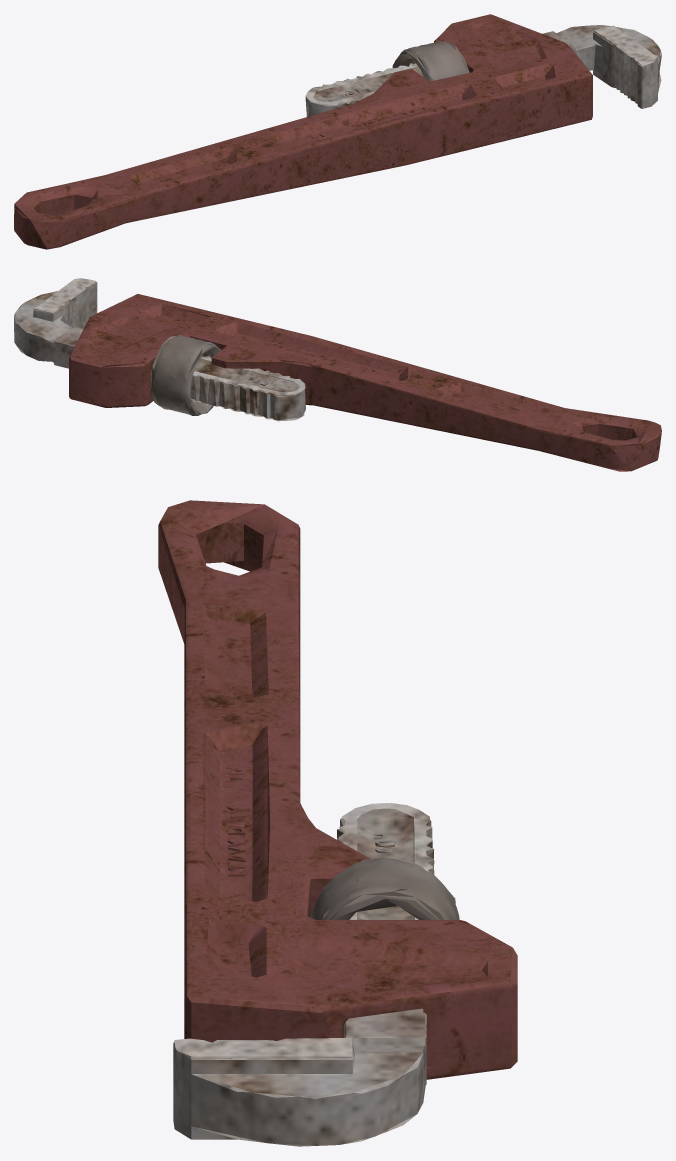
File: item_wrench.glb
The picture shows the model from 3 angles, top to bottom: view 1: azimuth 30°, elevation 25°; view 2: azimuth 150°, elevation 25°; view 3: azimuth 270°, elevation 25°; orthographic projection. The views are drawn at different scales.
Parts seen in each view (by area): view 1: item_wrench; view 2: item_wrench; view 3: item_wrench.
Boxes of the visible parts, <box> form: item_wrench: <box>14,14,661,249</box>; item_wrench: <box>14,278,661,471</box>; item_wrench: <box>158,500,517,1146</box>.
Size of the model in its own units: 0.2705 by 0.0292 by 0.0688.
4 materials, 4 textured.
